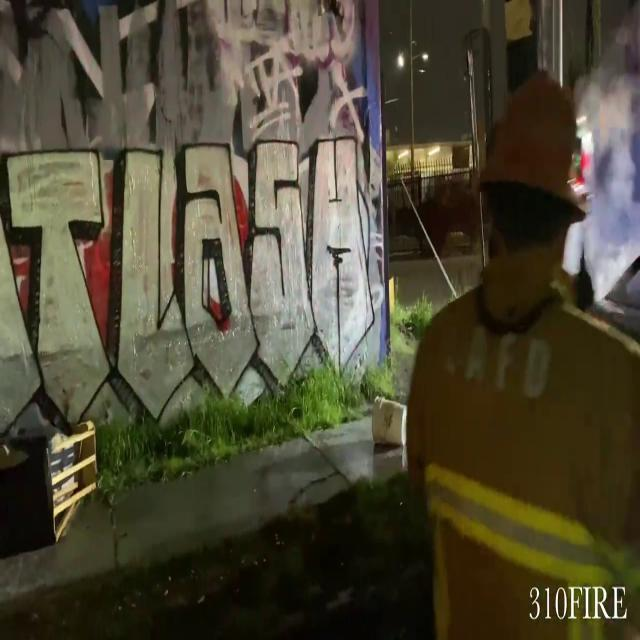Smoke: (559, 2, 640, 275)
